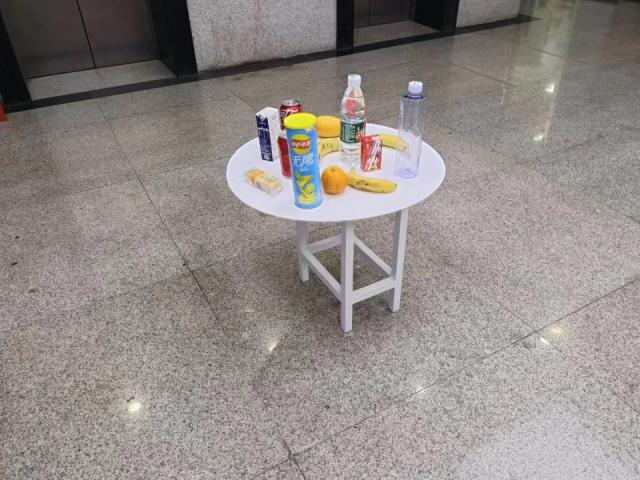Canned_drinks: (278, 130, 300, 178), (280, 99, 302, 137)
bottle: (395, 81, 428, 181), (339, 73, 366, 167)
cylinder: (285, 112, 323, 209)
drink_box: (256, 106, 282, 162), (362, 133, 382, 172)
